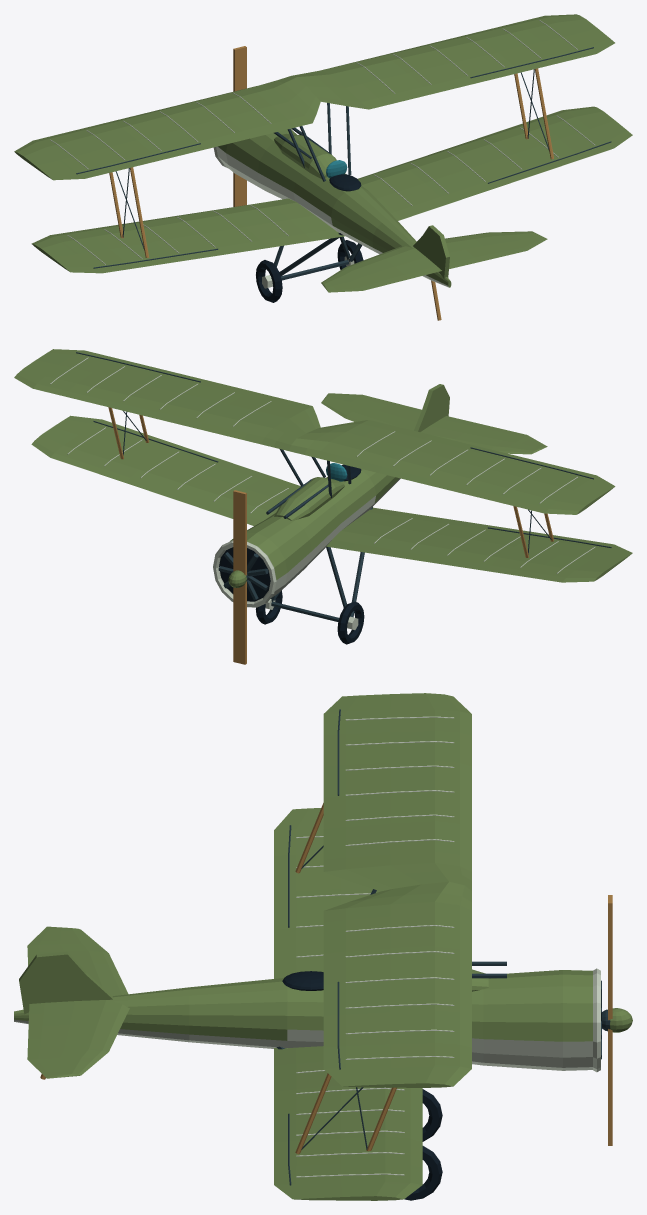
File: archive-sopwith-camel.glb
3 views of the same model, one above another, from view 1: azimuth 30°, elevation 25°; view 2: azimuth 150°, elevation 25°; view 3: azimuth 270°, elevation 25° (orthographic). The views are drawn at different scales.
Visible parts, largest first — view 1: archive-sopwith-camel-wing_1_-1-geometry, archive-sopwith-camel-wing_1_1-geometry, archive-sopwith-camel-wing_0_1-geometry, archive-sopwith-camel-wing_0_-1-geometry, archive-sopwith-camel-fuselage-geometry, archive-sopwith-camel-archive-sopwith-camel-geometry, archive-sopwith-camel-tailplane-geometry, archive-sopwith-camel-tailplane.001-geometry, archive-sopwith-camel-vertical_tail-geometry, archive-sopwith-camel-propeller_00-geometry; view 2: archive-sopwith-camel-wing_1_-1-geometry, archive-sopwith-camel-wing_1_1-geometry, archive-sopwith-camel-wing_0_-1-geometry, archive-sopwith-camel-wing_0_1-geometry, archive-sopwith-camel-archive-sopwith-camel-geometry, archive-sopwith-camel-fuselage-geometry, archive-sopwith-camel-tailplane-geometry, archive-sopwith-camel-propeller_00-geometry, archive-sopwith-camel-tailplane.001-geometry, archive-sopwith-camel-vertical_tail-geometry; view 3: archive-sopwith-camel-wing_1_1-geometry, archive-sopwith-camel-wing_1_-1-geometry, archive-sopwith-camel-fuselage-geometry, archive-sopwith-camel-wing_0_1-geometry, archive-sopwith-camel-wing_0_-1-geometry, archive-sopwith-camel-tailplane.001-geometry, archive-sopwith-camel-archive-sopwith-camel-geometry, archive-sopwith-camel-vertical_tail-geometry, archive-sopwith-camel-tailplane-geometry, archive-sopwith-camel-propeller_00-geometry.
Boxes of the visible parts, <box> form: archive-sopwith-camel-wing_1_-1-geometry: <box>14,76,320,180</box>; archive-sopwith-camel-wing_1_1-geometry: <box>291,14,614,109</box>; archive-sopwith-camel-wing_0_1-geometry: <box>358,106,632,220</box>; archive-sopwith-camel-wing_0_-1-geometry: <box>31,198,344,273</box>; archive-sopwith-camel-fuselage-geometry: <box>216,129,451,287</box>; archive-sopwith-camel-archive-sopwith-camel-geometry: <box>109,68,553,320</box>; archive-sopwith-camel-tailplane-geometry: <box>321,246,441,292</box>; archive-sopwith-camel-tailplane.001-geometry: <box>445,231,547,268</box>; archive-sopwith-camel-vertical_tail-geometry: <box>413,225,449,278</box>; archive-sopwith-camel-propeller_00-geometry: <box>233,46,246,206</box>; archive-sopwith-camel-wing_1_-1-geometry: <box>289,420,615,514</box>; archive-sopwith-camel-wing_1_1-geometry: <box>14,349,320,450</box>; archive-sopwith-camel-wing_0_-1-geometry: <box>326,507,632,582</box>; archive-sopwith-camel-wing_0_1-geometry: <box>31,415,300,525</box>; archive-sopwith-camel-archive-sopwith-camel-geometry: <box>108,407,553,644</box>; archive-sopwith-camel-fuselage-geometry: <box>219,469,400,597</box>; archive-sopwith-camel-tailplane-geometry: <box>420,416,547,454</box>; archive-sopwith-camel-propeller_00-geometry: <box>233,490,247,664</box>; archive-sopwith-camel-tailplane.001-geometry: <box>321,393,421,430</box>; archive-sopwith-camel-vertical_tail-geometry: <box>414,384,449,431</box>; archive-sopwith-camel-wing_1_1-geometry: <box>323,881,471,1087</box>; archive-sopwith-camel-wing_1_-1-geometry: <box>323,693,471,891</box>; archive-sopwith-camel-fuselage-geometry: <box>14,970,592,1070</box>; archive-sopwith-camel-wing_0_1-geometry: <box>274,1046,422,1200</box>; archive-sopwith-camel-wing_0_-1-geometry: <box>274,808,380,978</box>; archive-sopwith-camel-tailplane.001-geometry: <box>27,1000,129,1078</box>; archive-sopwith-camel-archive-sopwith-camel-geometry: <box>40,803,632,1200</box>; archive-sopwith-camel-vertical_tail-geometry: <box>19,951,112,1014</box>; archive-sopwith-camel-tailplane-geometry: <box>27,926,128,995</box>; archive-sopwith-camel-propeller_00-geometry: <box>601,895,612,1145</box>.
Bounding box in the file's own units: 8.95 × 3.11 × 6.
